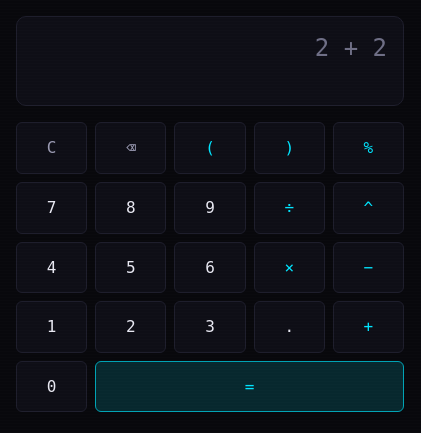
Calculator › clears the expression
The width and height of the screenshot is (421, 433).
In the field named "expression": coordinates (210, 48) [33,29,387,67], type "123"
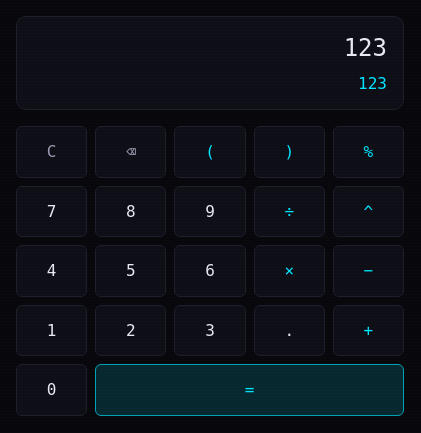
Click the button named "clear": coordinates (52, 152) [16,126,87,178]
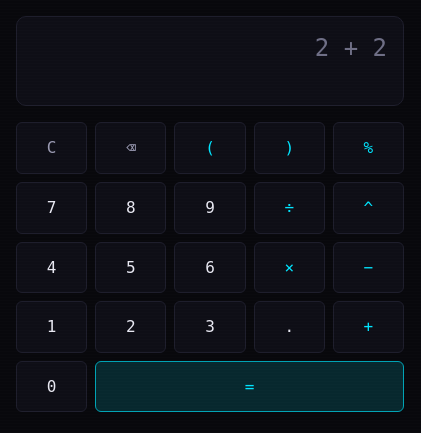
Now the field named "expression" is empty, box [33,29,387,67]
